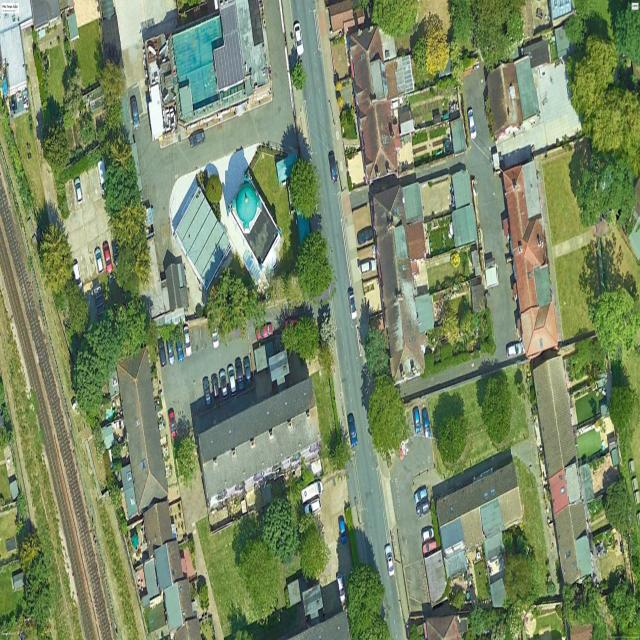Home: (196, 378, 320, 507), (533, 355, 592, 584), (371, 176, 426, 380), (503, 161, 558, 361), (433, 452, 522, 574), (117, 347, 168, 512), (350, 27, 400, 182), (487, 56, 540, 141), (143, 499, 173, 558), (164, 579, 193, 632), (155, 540, 184, 591), (452, 204, 477, 247), (452, 170, 472, 209)
mosque: (233, 180, 276, 266)
